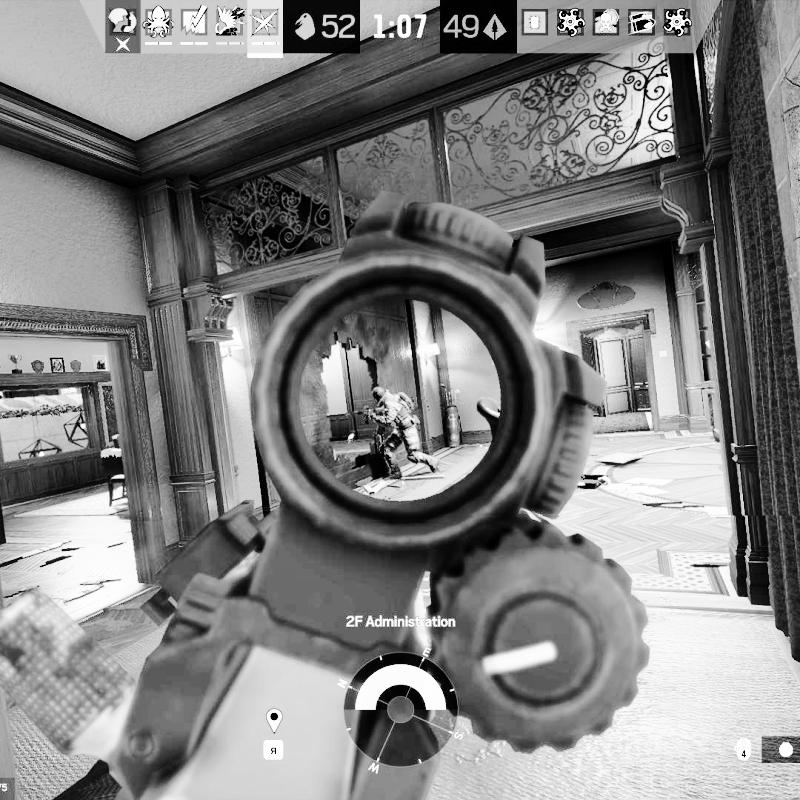Character: (346, 384, 446, 482)
Head: (372, 385, 387, 404)
